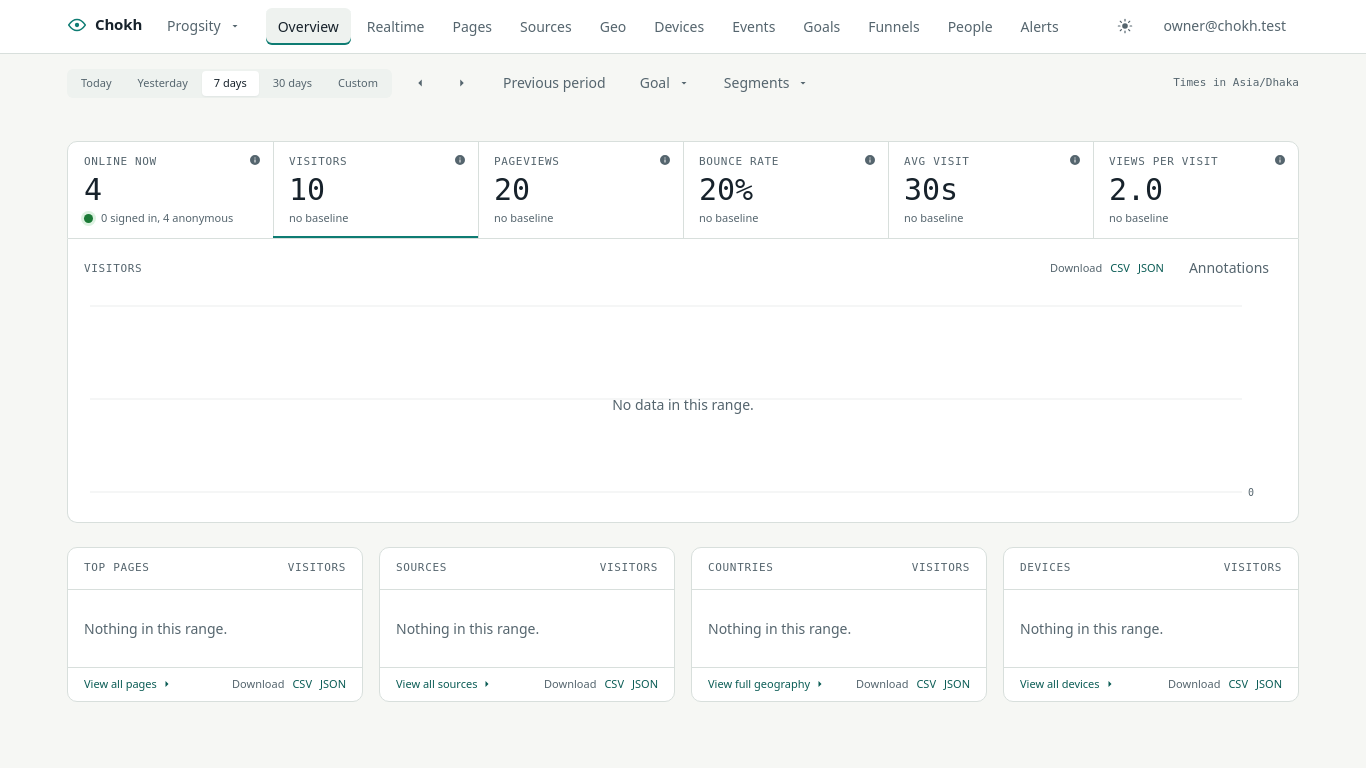
the site switcher › says how many people are on each site
Click the button "Progsity". click: (204, 26)
box: [154, 9, 254, 44]
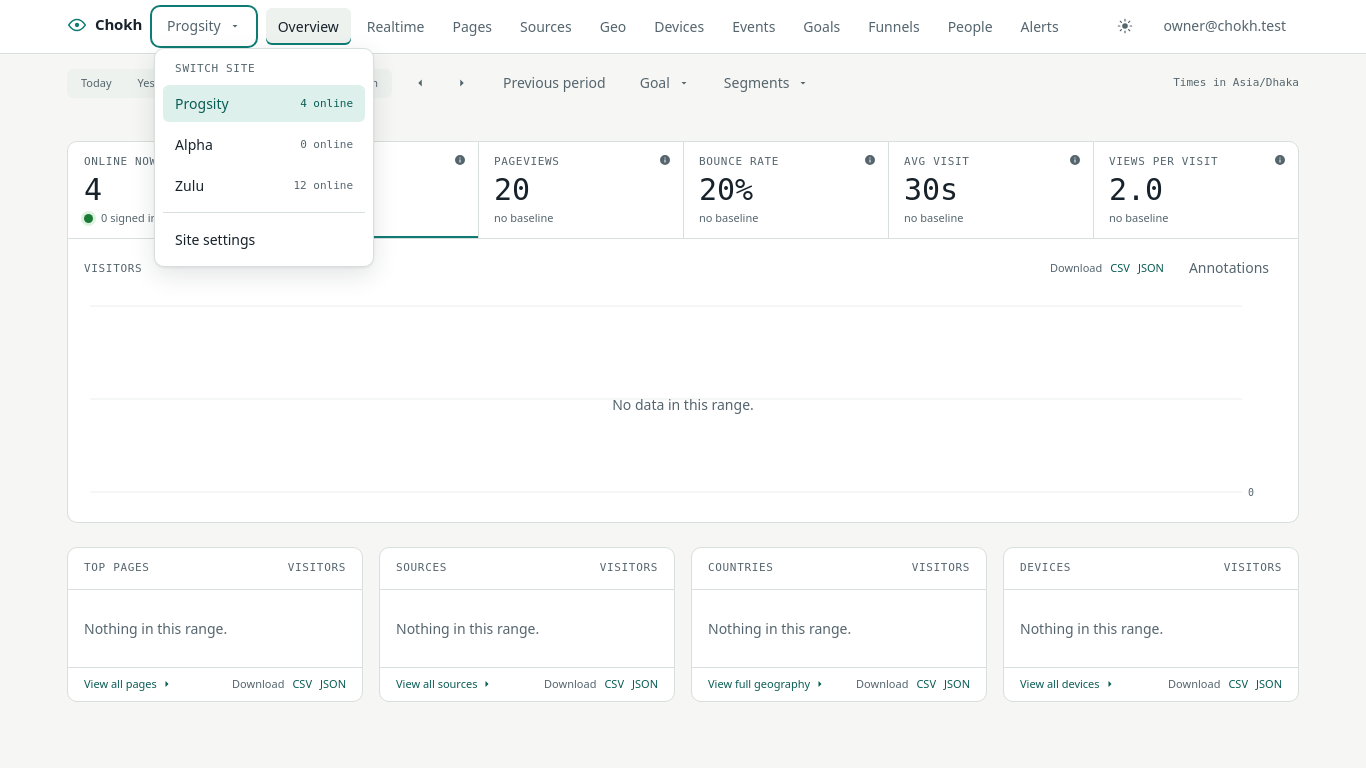
Now the text "12 online" is shown, box [294, 178, 353, 194]
Now the text "0 online" is shown, box [300, 137, 353, 153]
